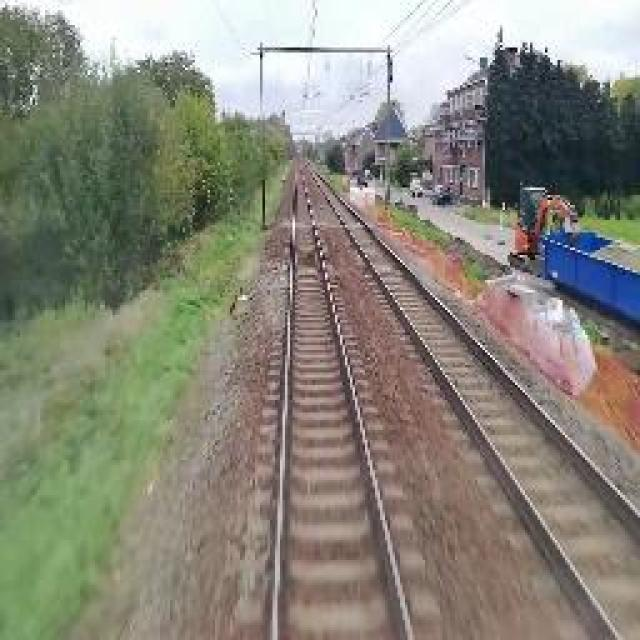rail: (236, 156, 457, 640)
